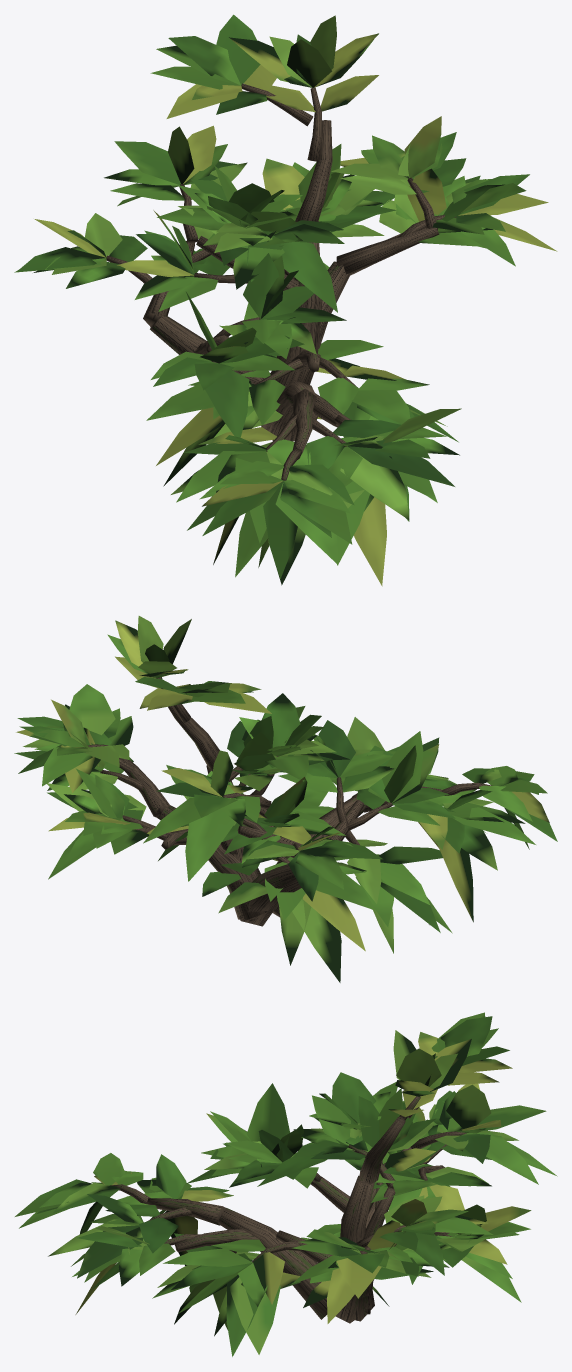
The model's file is Understory_Shrub_Small.glb.
The picture shows the model from 3 angles, top to bottom: view 1: azimuth 30°, elevation 25°; view 2: azimuth 150°, elevation 25°; view 3: azimuth 270°, elevation 25°; orthographic projection. The views are drawn at different scales.
Visible parts, largest first — view 1: Understory_Shrub_Small__Leaves, Understory_Shrub_Small__Stems; view 2: Understory_Shrub_Small__Leaves, Understory_Shrub_Small__Stems; view 3: Understory_Shrub_Small__Leaves, Understory_Shrub_Small__Stems.
Part boxes in pixels (<box>): Understory_Shrub_Small__Leaves: <box>14,14,557,586</box>; Understory_Shrub_Small__Stems: <box>106,83,456,480</box>; Understory_Shrub_Small__Leaves: <box>14,616,557,982</box>; Understory_Shrub_Small__Stems: <box>88,677,492,926</box>; Understory_Shrub_Small__Leaves: <box>15,1012,557,1356</box>; Understory_Shrub_Small__Stems: <box>110,1096,466,1323</box>.
Size of the model in its own units: 4.14 by 3.46 by 4.65.
2 materials, 2 textured.
